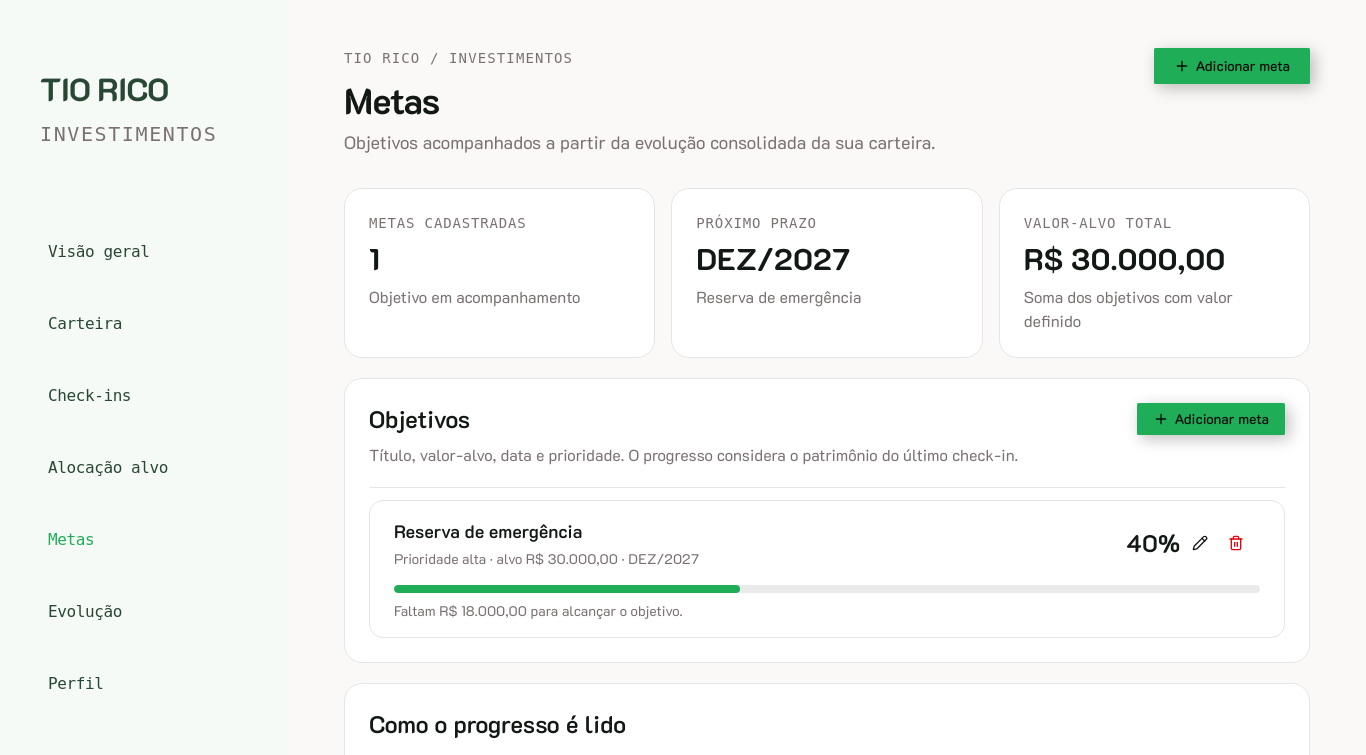
Scenario: Goals (metas) › remove uma meta com PATCH /api/profile sem ela
Expected: the list named "Metas cadastradas" is shown, [369, 500, 1285, 638]
Click the button named "Remover Reserva de emergência": (1244, 543) [1228, 527, 1260, 559]
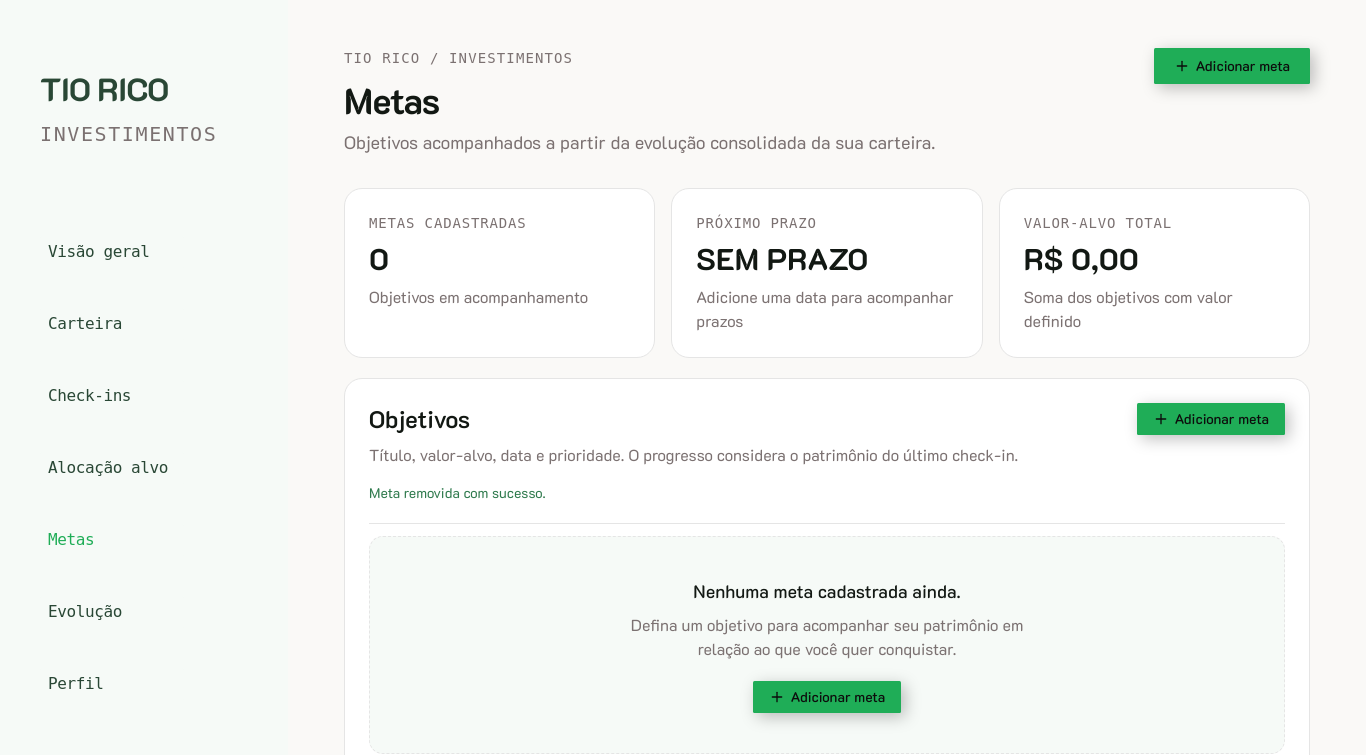
Expected: the text "Nenhuma meta cadastrada ainda." is shown, [693, 579, 961, 603]
